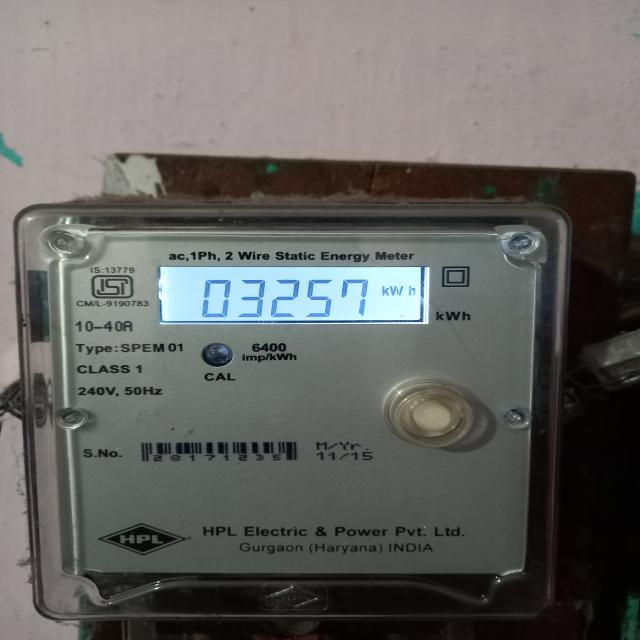display: (154, 261, 437, 328)
